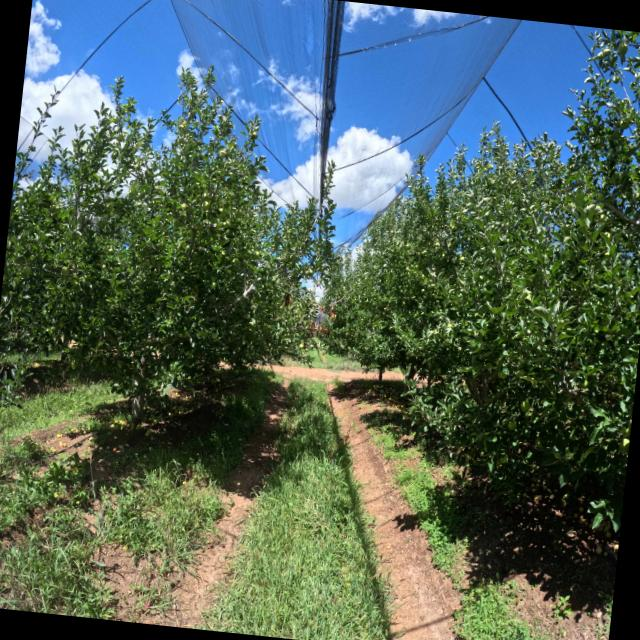-FireBlight-: (309, 319, 331, 338), (314, 304, 326, 317), (282, 292, 292, 306), (328, 310, 337, 320)
